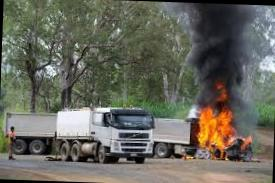Fire: (193, 103, 257, 162)
Smoke: (180, 2, 258, 121)
